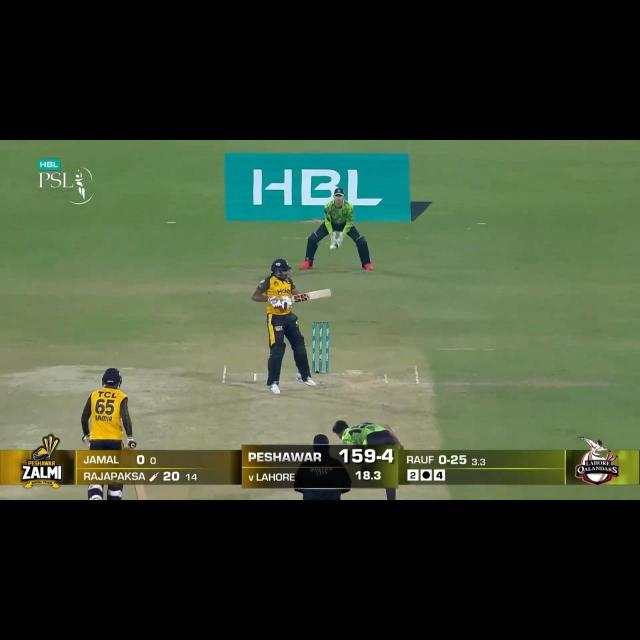bat: (290, 289, 332, 304)
toe: (323, 289, 334, 298)
